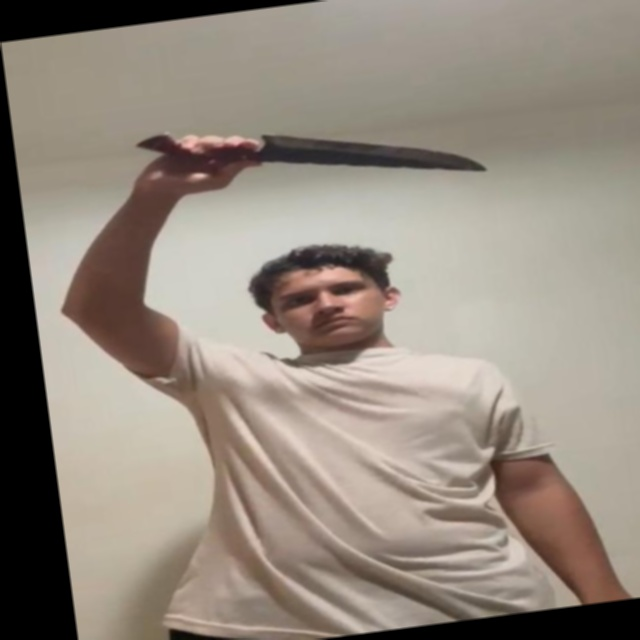Sharp-Object: (257, 105, 488, 195)
